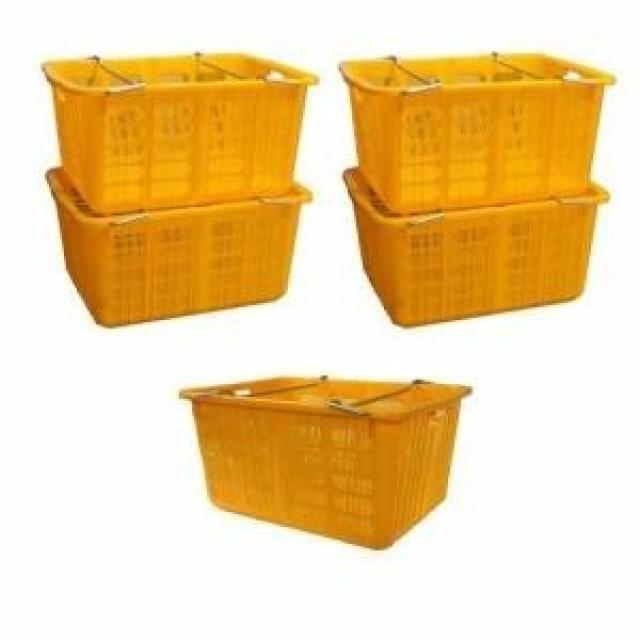basket: (171, 367, 470, 555), (46, 46, 325, 218), (337, 171, 611, 337), (41, 170, 312, 337), (344, 51, 620, 214)
